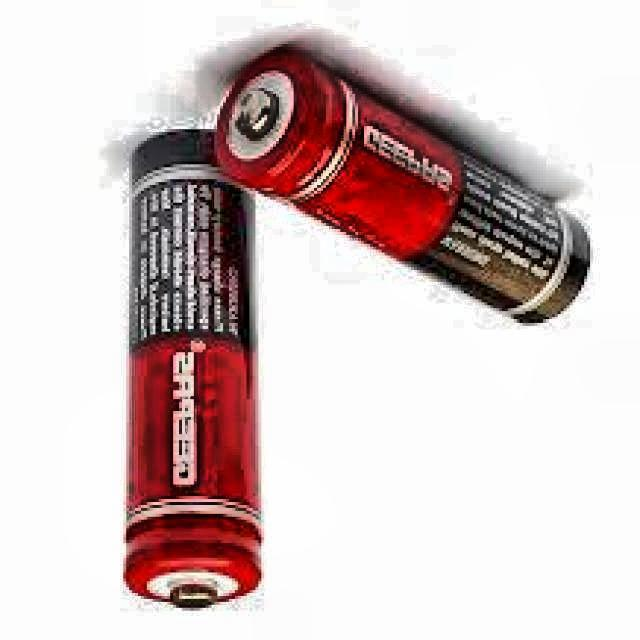battery: (212, 45, 591, 326), (123, 130, 261, 611)
